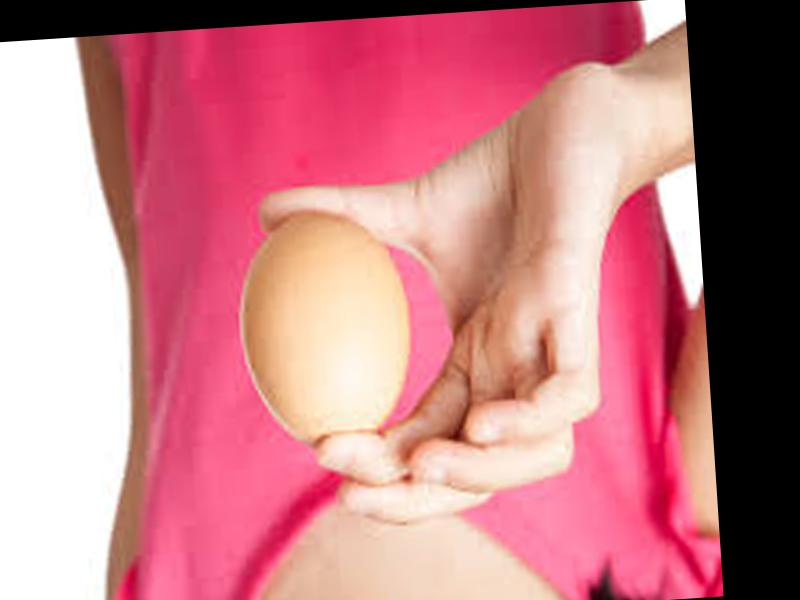Eggs: (236, 209, 416, 455)
